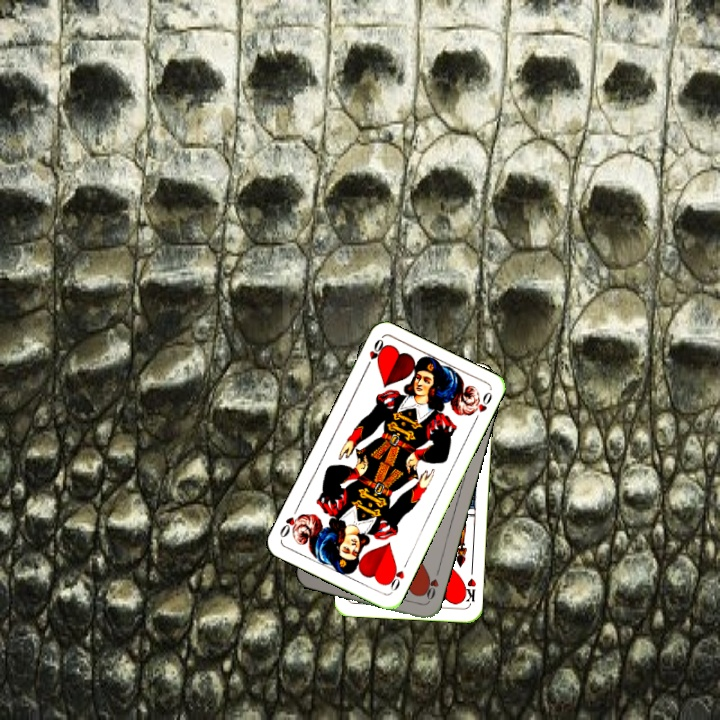HK: (459, 574, 479, 607)
HO: (383, 557, 411, 595), (361, 335, 387, 373), (419, 566, 442, 605)
